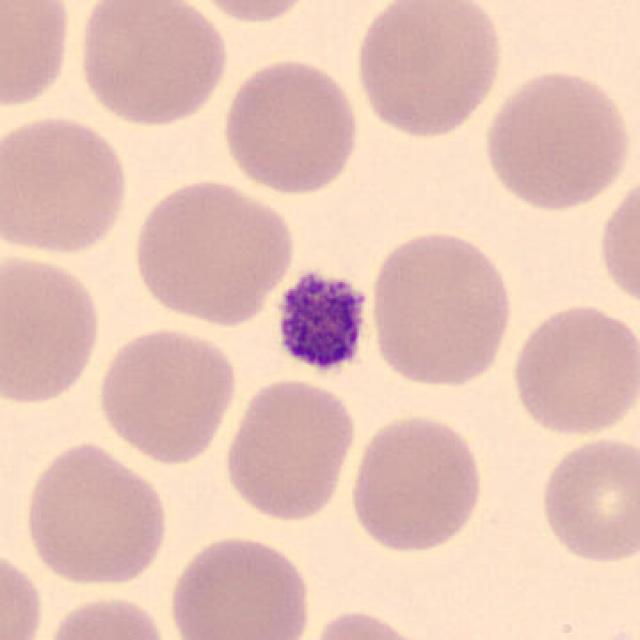Platelets: (268, 265, 372, 379)
RBC: (127, 174, 300, 328), (364, 226, 518, 391), (19, 437, 172, 591), (478, 64, 635, 214), (350, 0, 507, 141), (92, 322, 240, 466), (219, 374, 359, 525), (71, 0, 231, 130), (218, 54, 362, 198), (345, 411, 487, 557), (0, 109, 133, 259), (507, 300, 638, 440), (0, 247, 105, 409), (165, 530, 314, 640), (535, 432, 638, 566), (0, 0, 74, 116), (35, 590, 176, 640), (594, 169, 638, 316), (297, 606, 434, 640), (0, 543, 48, 640), (181, 0, 325, 26)
